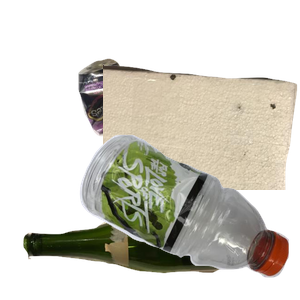glass: (21, 201, 261, 300)
metal: (75, 56, 198, 185)
plastic: (77, 132, 300, 300)
trash: (103, 62, 300, 242)
